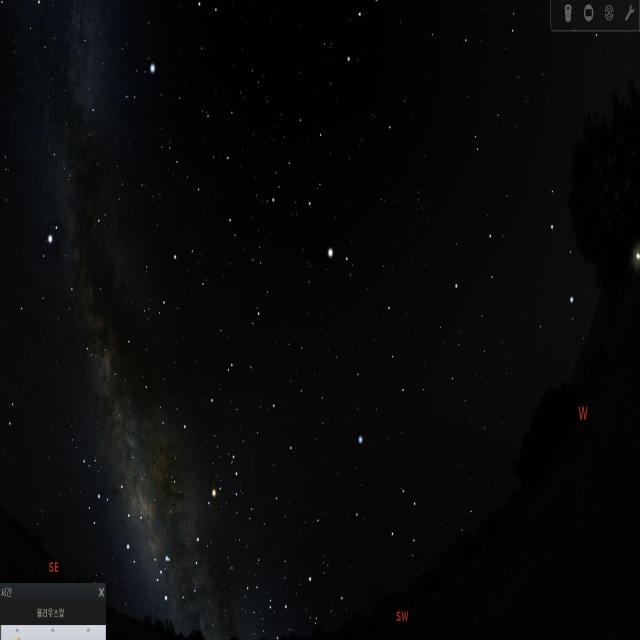aquila: (35, 197, 117, 370)
bootes: (268, 108, 358, 292)
leo: (456, 193, 584, 329)
lyra: (117, 48, 161, 115)
sagittarius: (73, 452, 152, 567)
scorpius: (157, 441, 246, 611)
